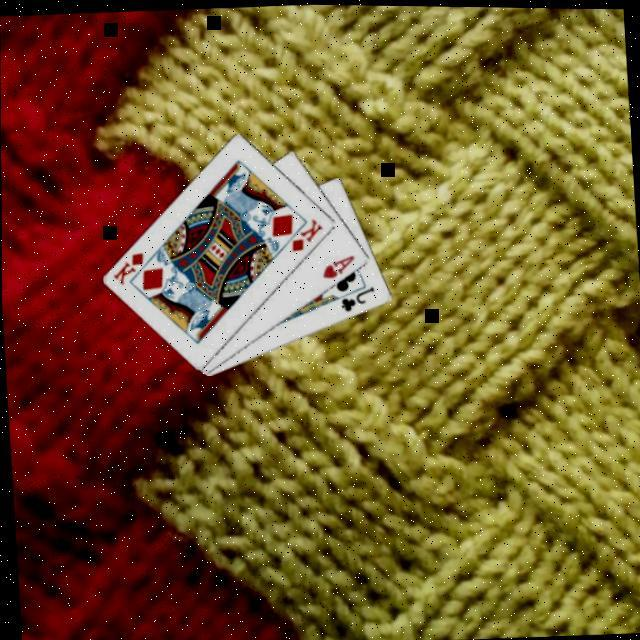AH: (316, 250, 356, 280)
JC: (334, 281, 376, 313)
KD: (284, 213, 324, 253), (107, 248, 146, 286)
